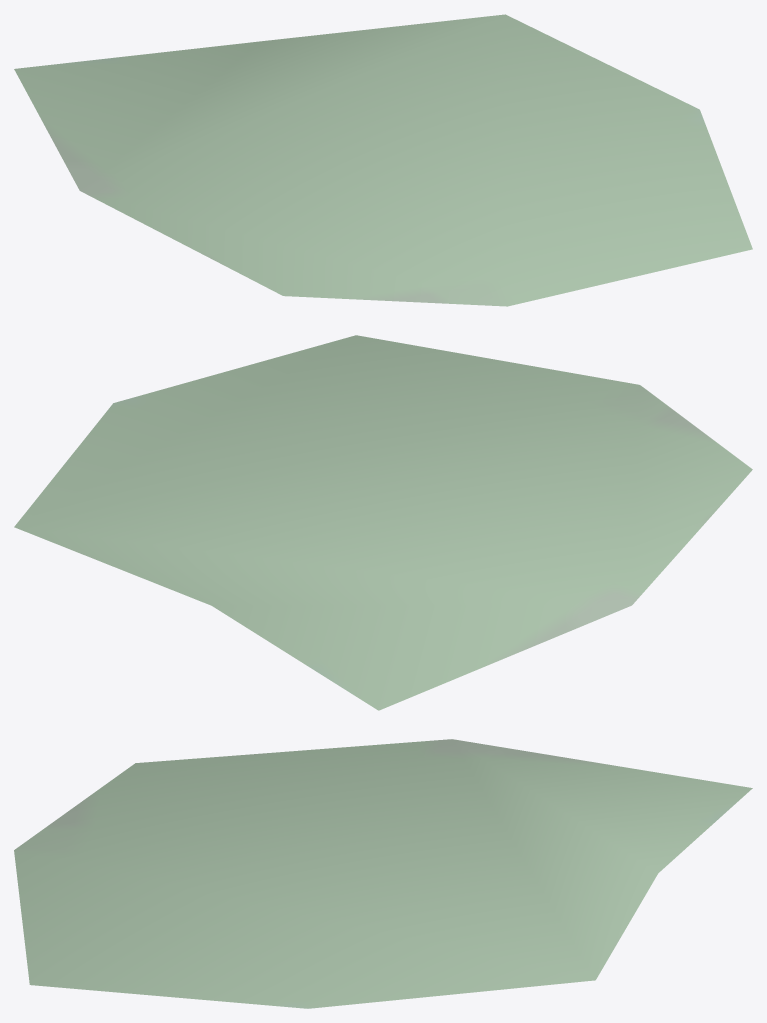
The model's file is TROLLHOLE02_HOLECAP12.fbx.
3 views of the same model, one above another, from view 1: azimuth 30°, elevation 25°; view 2: azimuth 150°, elevation 25°; view 3: azimuth 270°, elevation 25° (orthographic). The views are drawn at different scales.
Parts seen in each view (by area): view 1: TROLLHOLE02_HOLECAP12; view 2: TROLLHOLE02_HOLECAP12; view 3: TROLLHOLE02_HOLECAP12.
Part boxes in pixels (bbox=[...]): TROLLHOLE02_HOLECAP12: bbox=[14, 14, 752, 306]; TROLLHOLE02_HOLECAP12: bbox=[14, 335, 752, 710]; TROLLHOLE02_HOLECAP12: bbox=[14, 739, 752, 1008].
Bounding box in the file's own units: 28396 × 1156 × 32900.
Materials: 1 (1 with a texture image).
